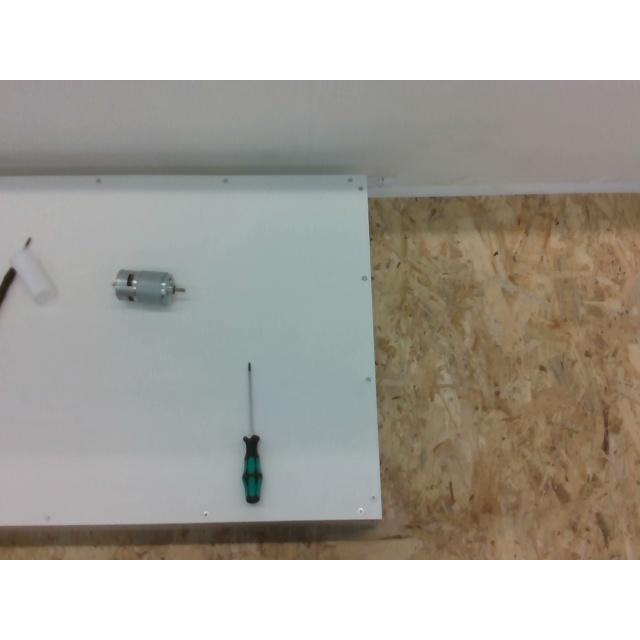Motor2: (112, 269, 184, 305)
Screwdriver: (242, 362, 262, 502)
Spacer: (8, 250, 56, 304)
